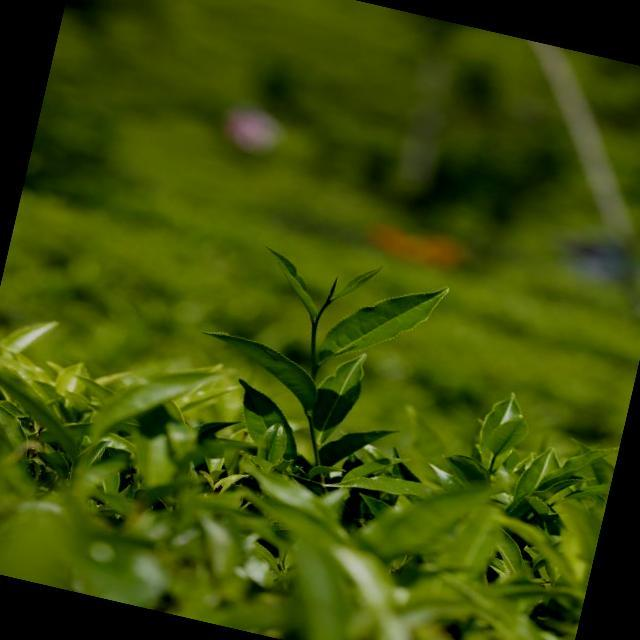Stem: (312, 323, 317, 329)
